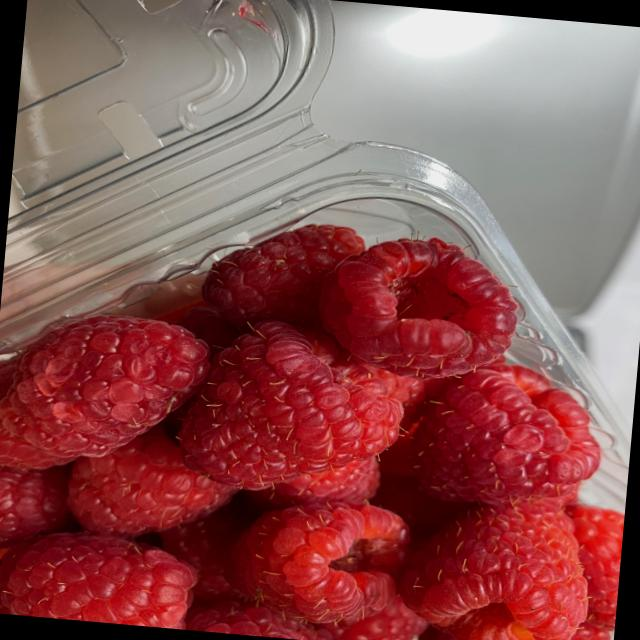raspberries: (0, 206, 636, 640)
